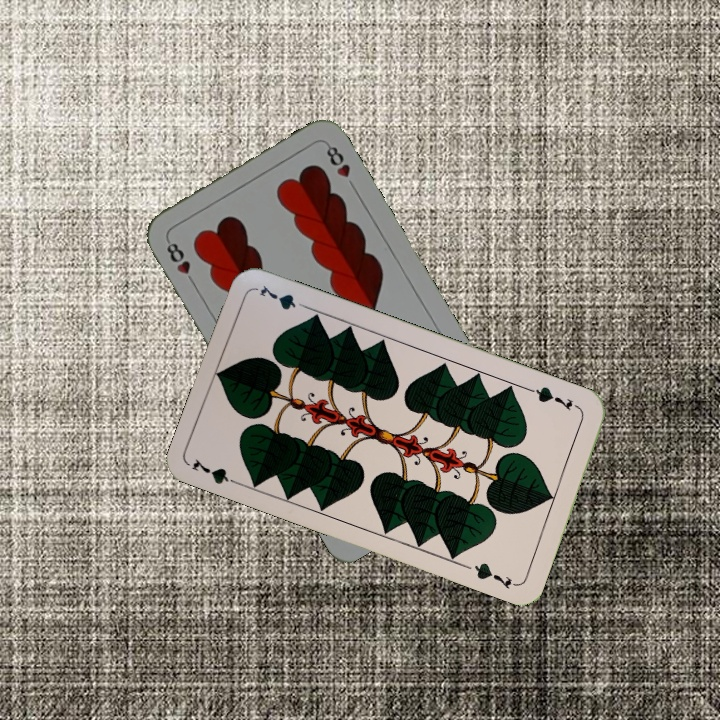G7: (188, 455, 245, 489), (525, 382, 583, 413)
H8: (162, 235, 199, 289)
